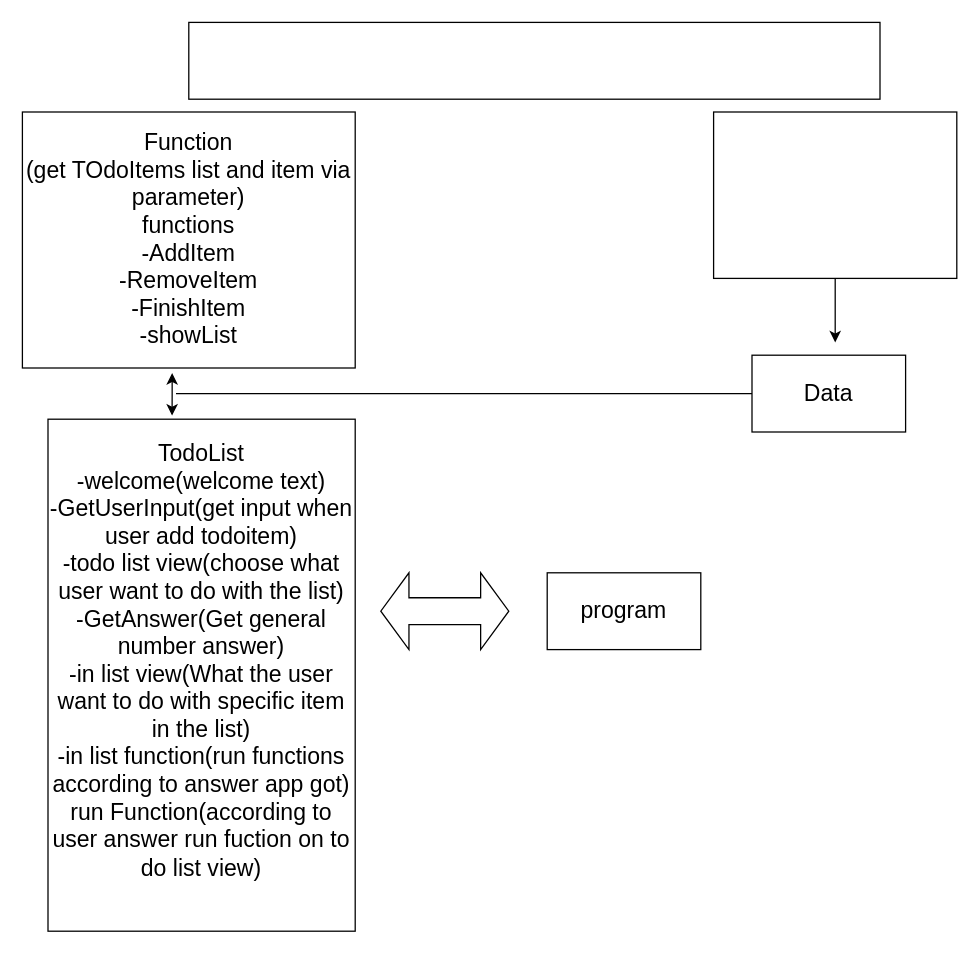
This 979x954 diagram has some shape labels left out. The shapes that lost their labels are listed below. From the top down, each one's box as (x1, y1, x2, y2) in pixels, then its label:
(188, 21, 880, 99): Todo list app
(712, 111, 957, 278): TodoItem (work with the class's instance) -finished -to text
